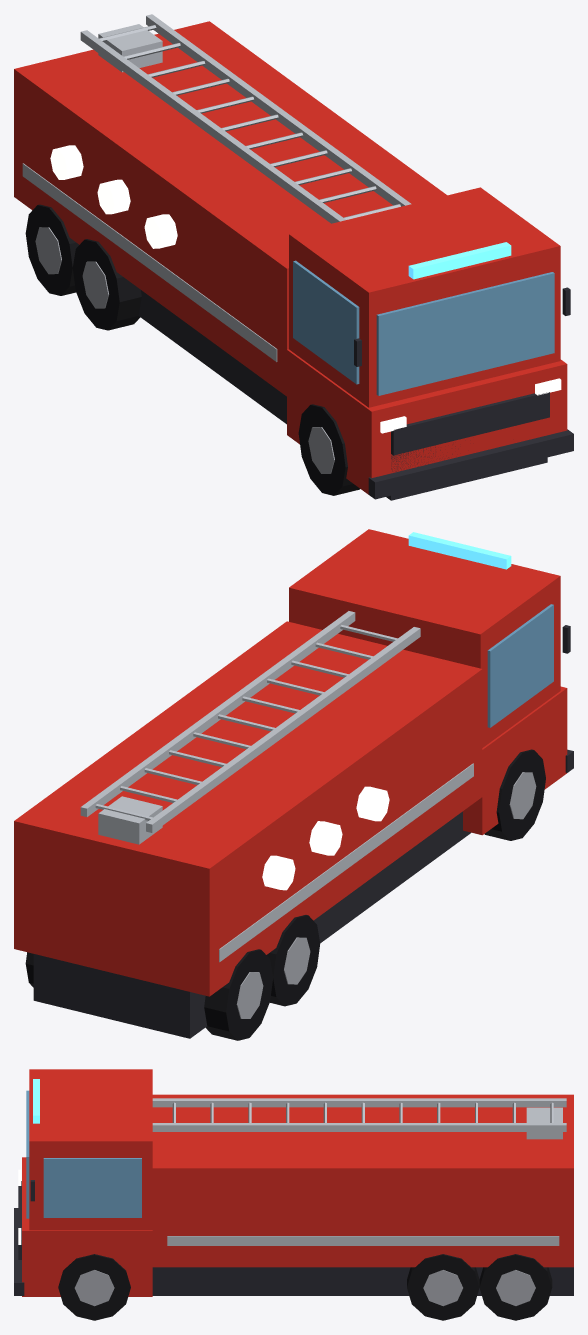
Rendered from fire_truck.glb.
The picture shows the model from 3 angles, top to bottom: view 1: azimuth 30°, elevation 25°; view 2: azimuth 150°, elevation 25°; view 3: azimuth 270°, elevation 25°; orthographic projection. The views are drawn at different scales.
Visible parts, largest first — view 1: fire_truck; view 2: fire_truck; view 3: fire_truck.
Boxes of the visible parts, box(x1,y1,x2,y2) form: fire_truck: box(14, 14, 573, 500); fire_truck: box(14, 529, 573, 1040); fire_truck: box(14, 1069, 573, 1320).
Size of the model in its own units: 2.71 by 2.82 by 7.71.
